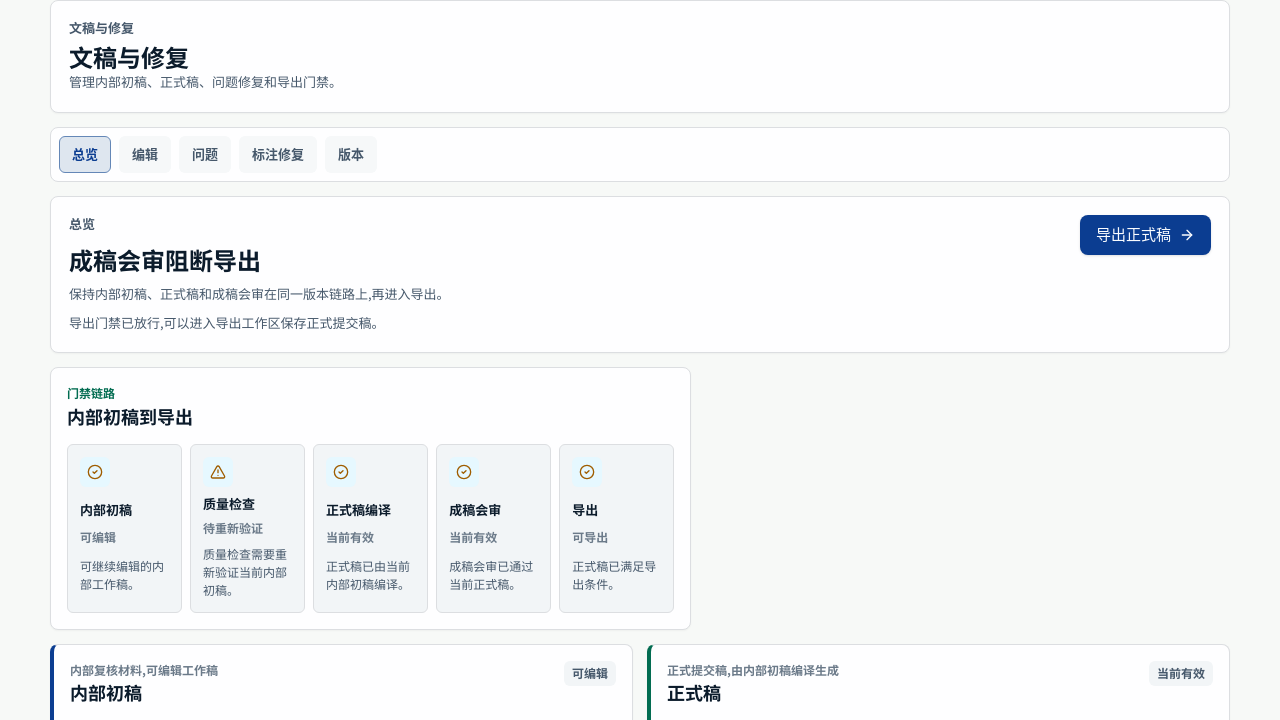
Test: DocumentRepairWorkspace › shows an empty state when no repairable post-draft review exists
Click the tab "标注修复" at (278, 154), box [239,136,317,173]
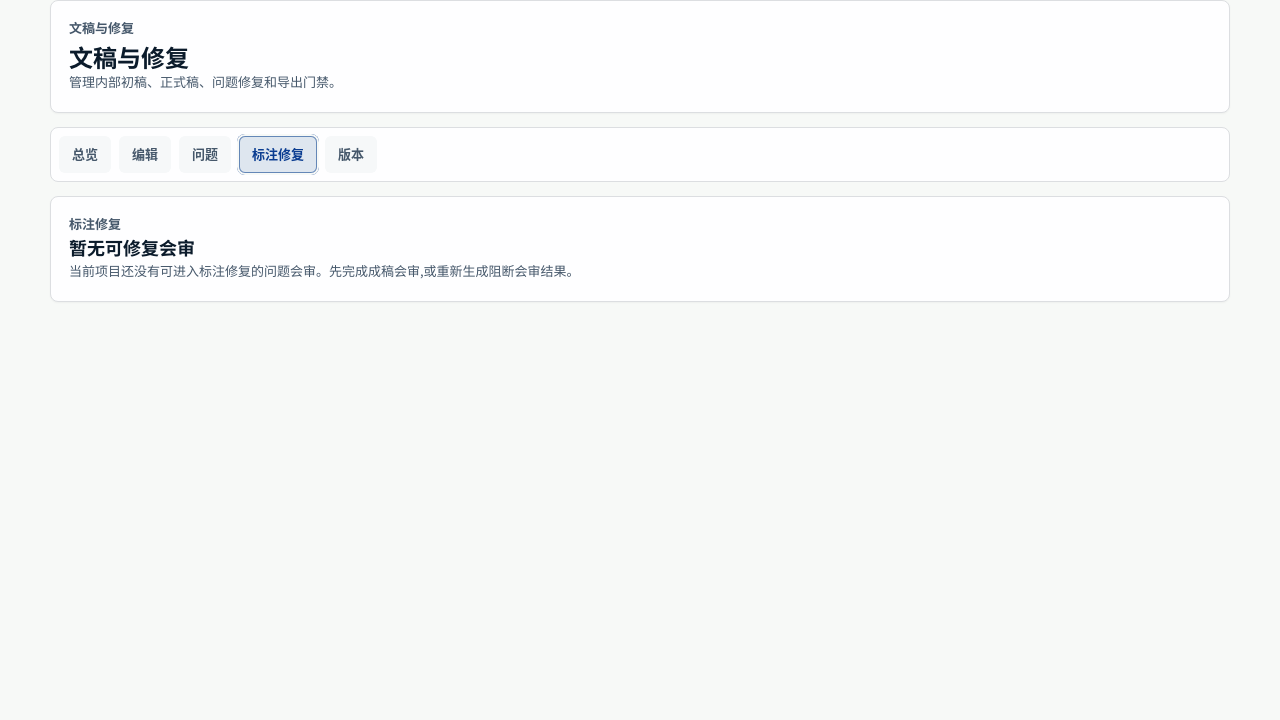
Expected: the heading "暂无可修复会审" is shown, [69,240,195,260]
